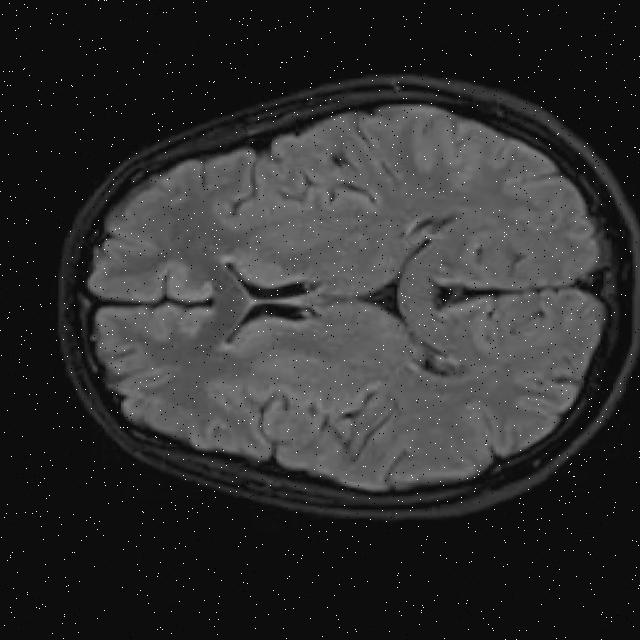NoTumor: (50, 55, 640, 533)
